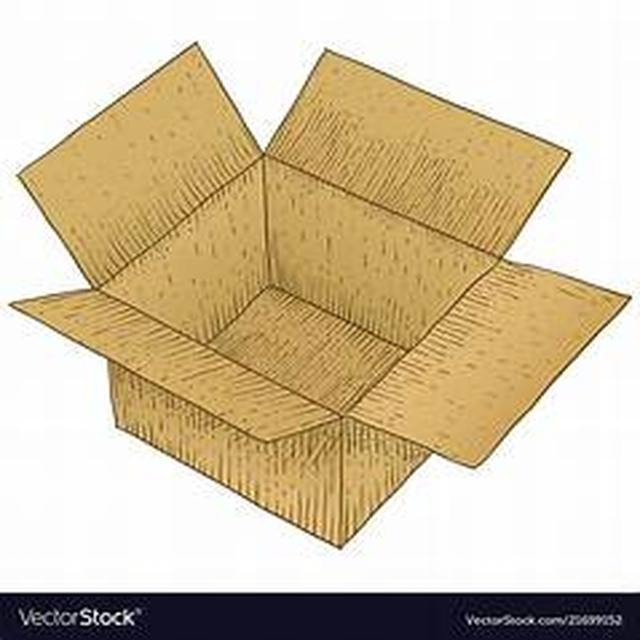box: (8, 32, 584, 534)
